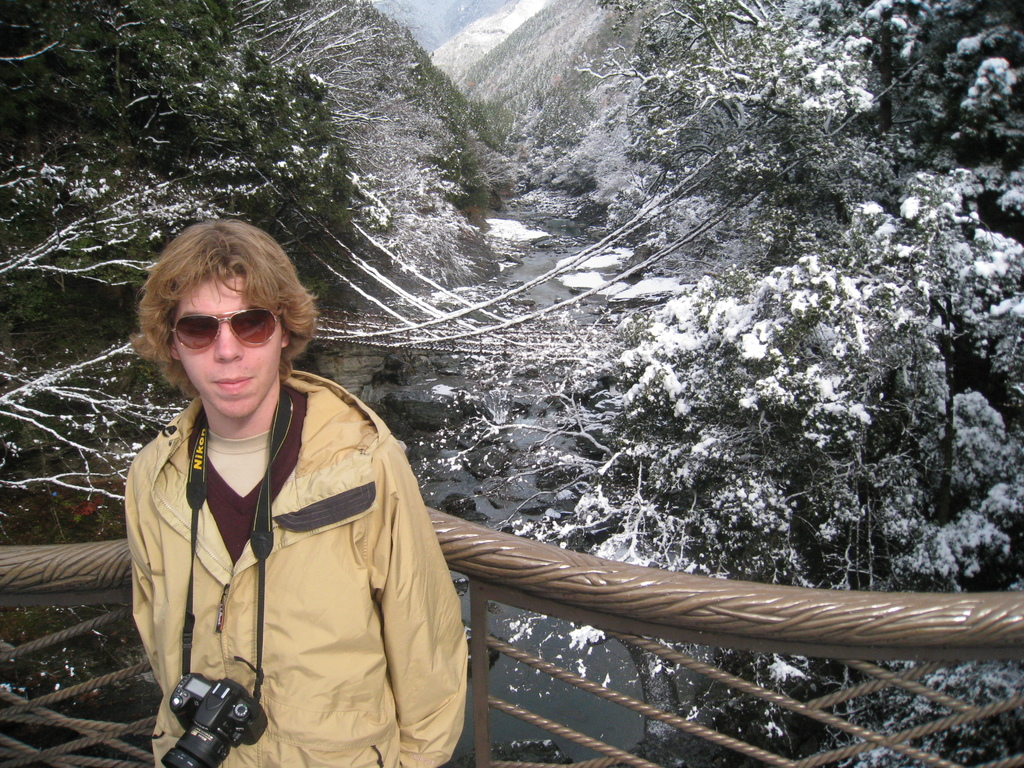Human-face: (172, 275, 282, 414)
